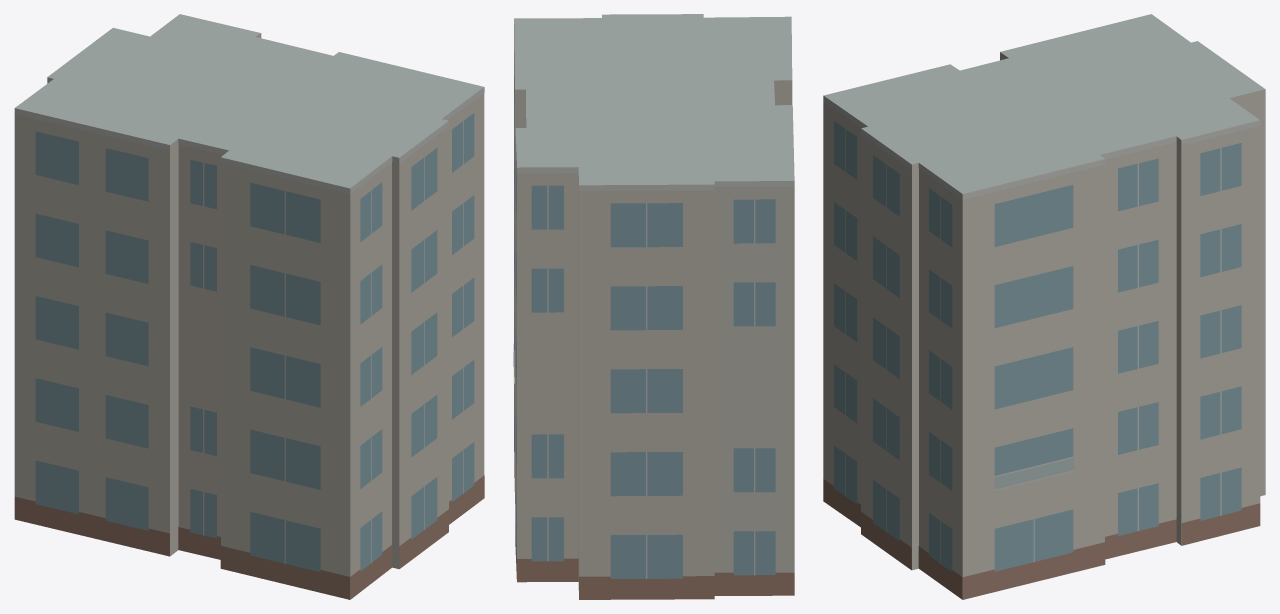
The model's file is survey-upis-32962448.glb.
3 renders of one model, left to right at view 1: azimuth 30°, elevation 25°; view 2: azimuth 150°, elevation 25°; view 3: azimuth 270°, elevation 25°, orthographic. The views are drawn at different scales.
Parts seen in each view (by area): view 1: survey-upis-32962448.tmp; view 2: survey-upis-32962448.tmp; view 3: survey-upis-32962448.tmp.
Boxes of the visible parts, box(x1,y1,x2,y2) form: survey-upis-32962448.tmp: box(14, 14, 484, 599); survey-upis-32962448.tmp: box(513, 14, 794, 599); survey-upis-32962448.tmp: box(823, 14, 1265, 599).
Bounding box in the file's own units: 16.35 × 17.17 × 16.96.
